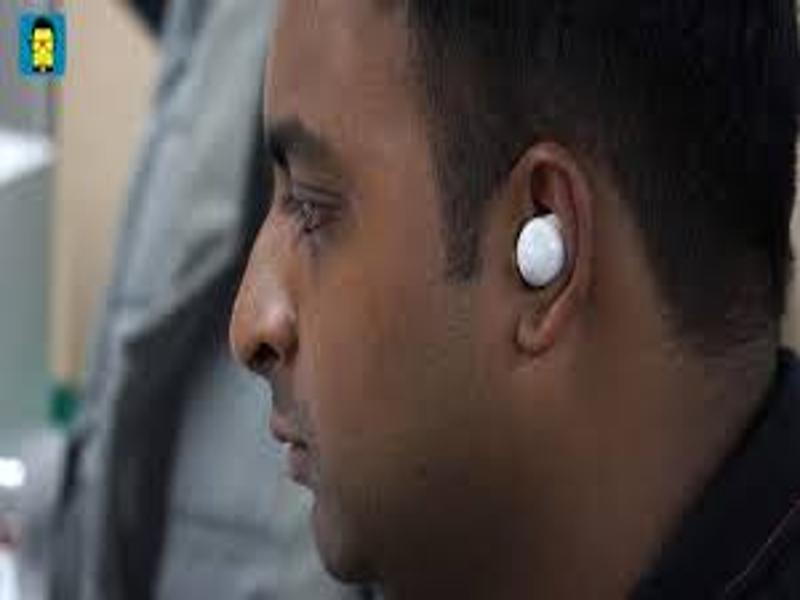headphone: (511, 211, 569, 290)
